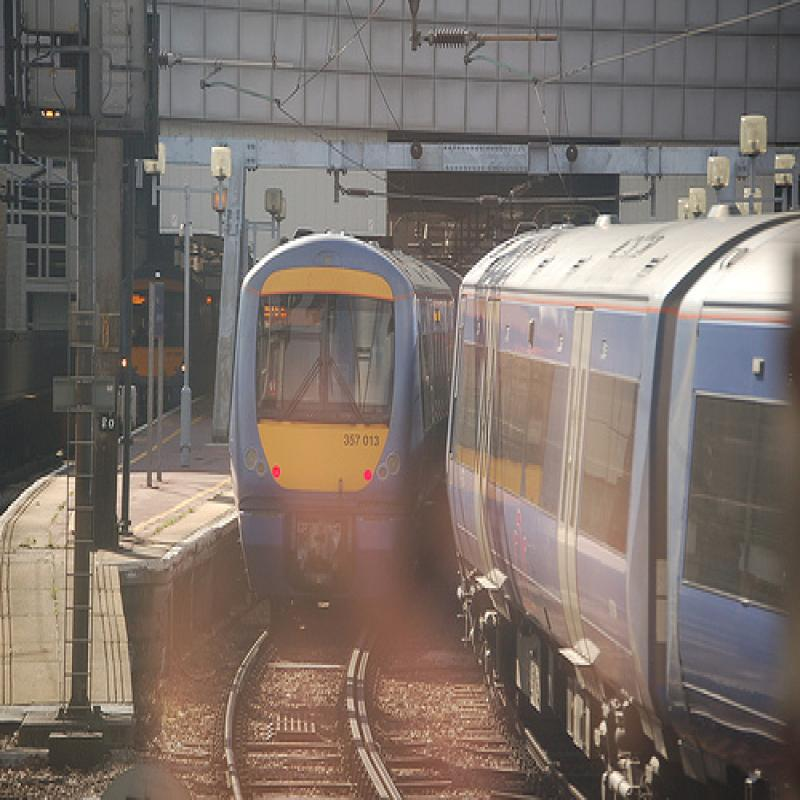train: (443, 206, 800, 799), (227, 223, 472, 647)
